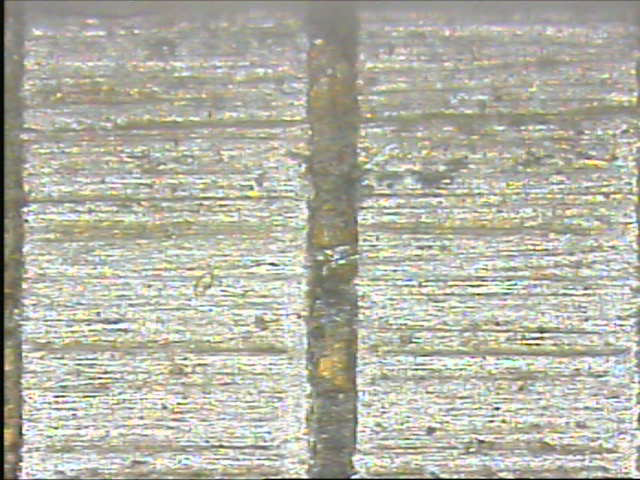line: (300, 1, 364, 477)
